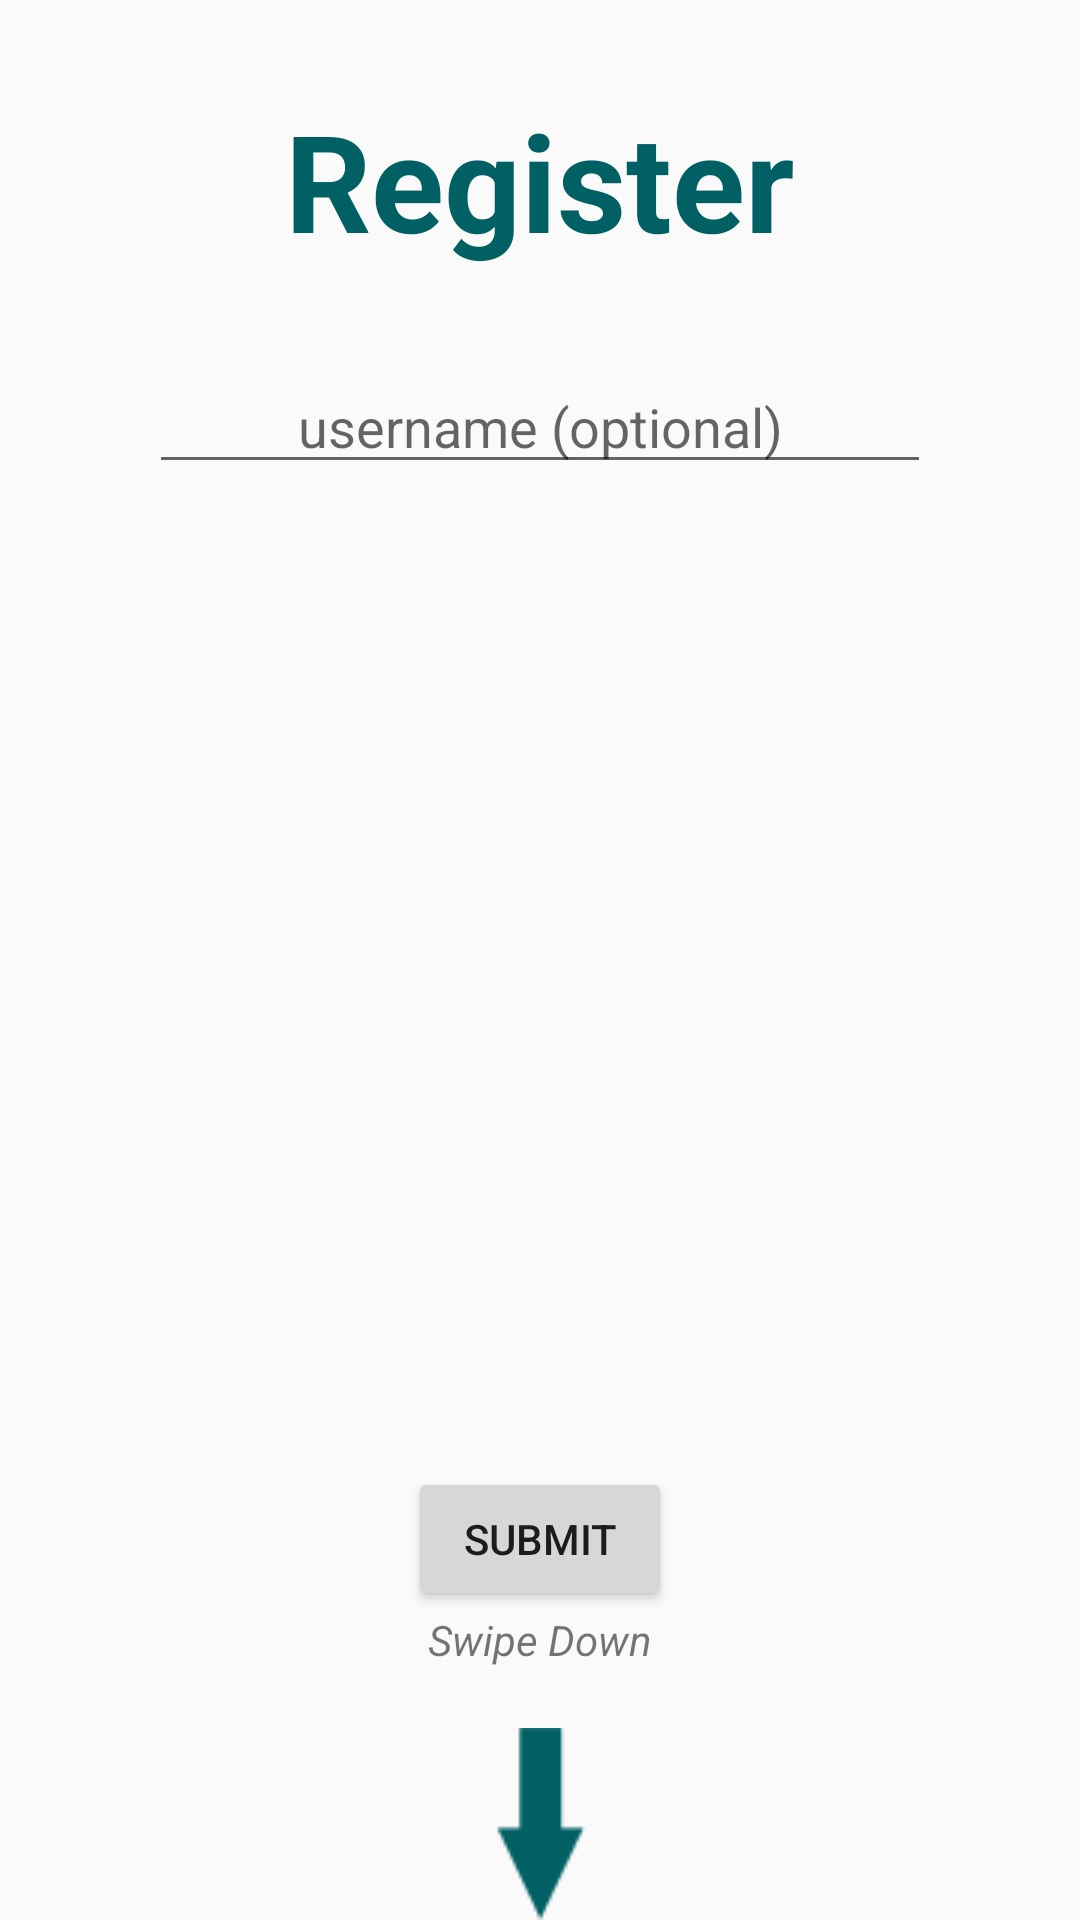

Screen size 1080 x 1920. Icon name, then its box in pixels as BBox(x1, y1, x2, y2):
Down Arrow: BBox(497, 1728, 585, 1920)
